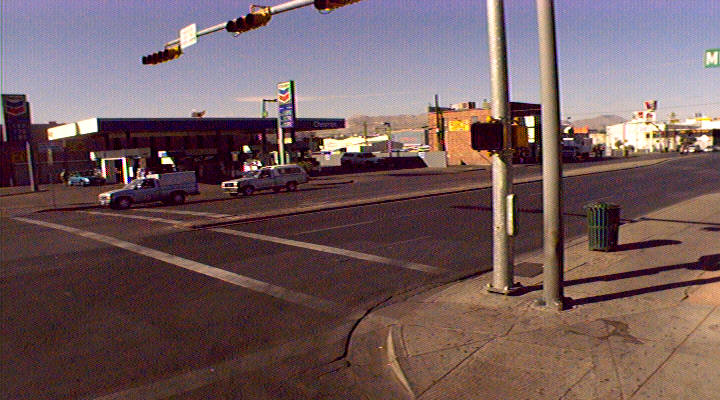Ramp: (384, 325, 661, 400), (356, 284, 557, 363), (1, 203, 52, 221)
